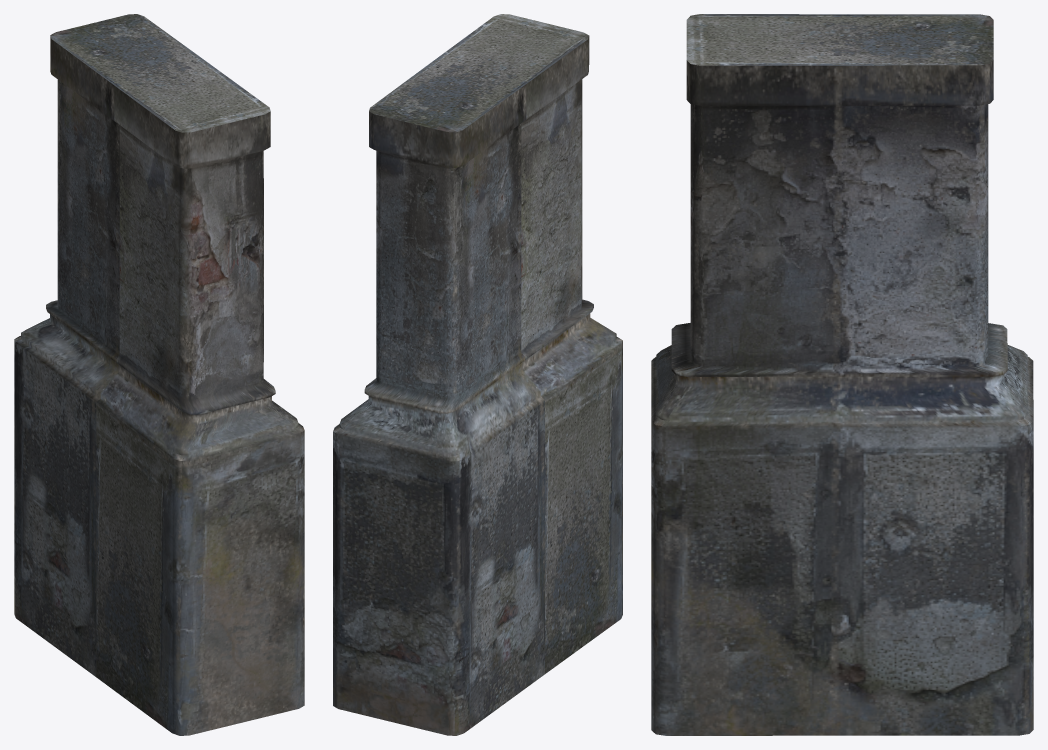
Rendered from SM_ChapelColumnPedestal_03_01.fbx.
3 renders of one model, left to right at view 1: azimuth 30°, elevation 25°; view 2: azimuth 150°, elevation 25°; view 3: azimuth 270°, elevation 25°, orthographic. The views are drawn at different scales.
Parts seen in each view (by area): view 1: sm_ChapelColumnPedestal_03_01_LOD0; view 2: sm_ChapelColumnPedestal_03_01_LOD0; view 3: sm_ChapelColumnPedestal_03_01_LOD0.
Boxes of the visible parts, x1=… form: sm_ChapelColumnPedestal_03_01_LOD0: x1=14, y1=14, x2=304, y2=735; sm_ChapelColumnPedestal_03_01_LOD0: x1=333, y1=14, x2=622, y2=735; sm_ChapelColumnPedestal_03_01_LOD0: x1=651, y1=14, x2=1033, y2=735.
Size of the model in its own units: 103 by 45.81 by 196.
